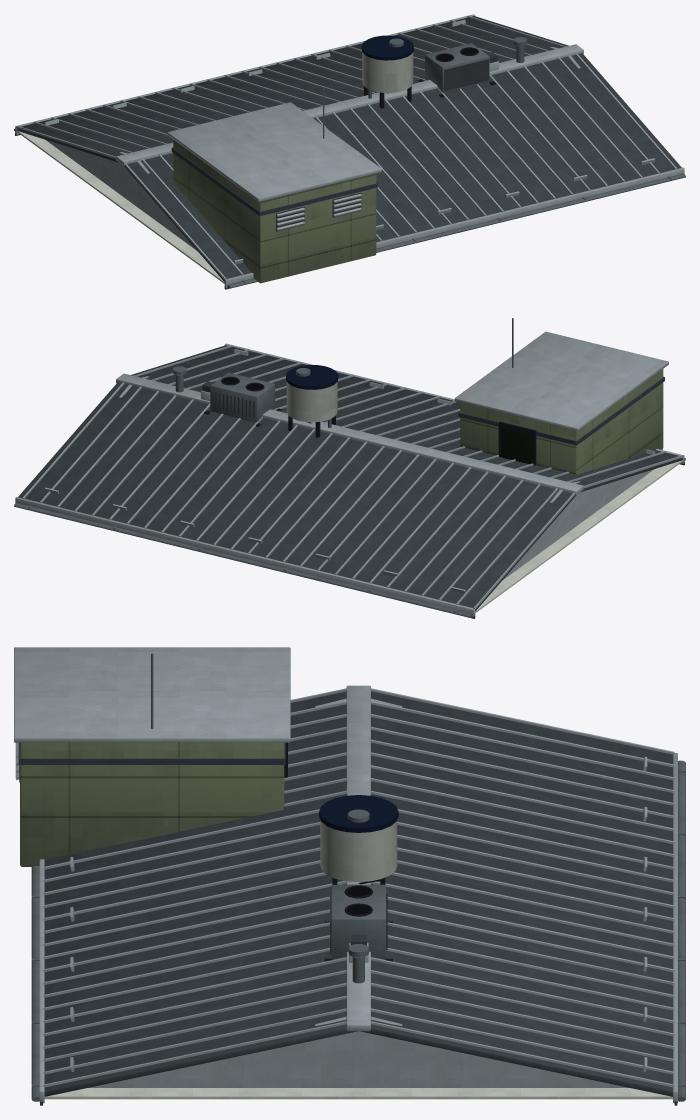
File: fac_generic_roof.glb
The picture shows the model from 3 angles, top to bottom: view 1: azimuth 30°, elevation 25°; view 2: azimuth 150°, elevation 25°; view 3: azimuth 270°, elevation 25°; orthographic projection. The views are drawn at different scales.
Parts seen in each view (by area): view 1: FAC_GENERIC_ROOF; view 2: FAC_GENERIC_ROOF; view 3: FAC_GENERIC_ROOF.
Boxes of the visible parts, bbox=[...] form: FAC_GENERIC_ROOF: bbox=[14, 14, 685, 289]; FAC_GENERIC_ROOF: bbox=[14, 318, 685, 618]; FAC_GENERIC_ROOF: bbox=[14, 647, 685, 1105].
Bounding box in the file's own units: 14.6 × 4.26 × 12.2.
13 materials, 13 textured.
